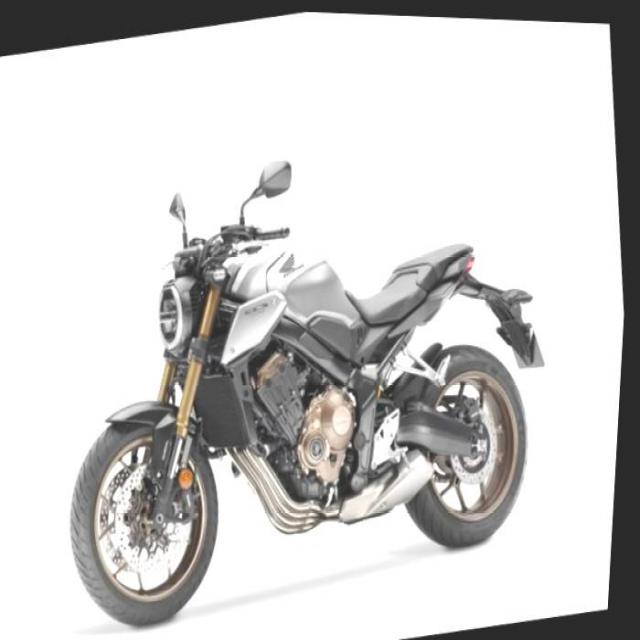CB650R: (43, 174, 559, 639)
